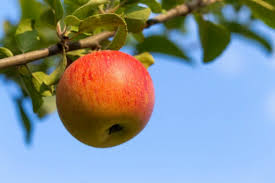tao: (55, 49, 155, 148)
